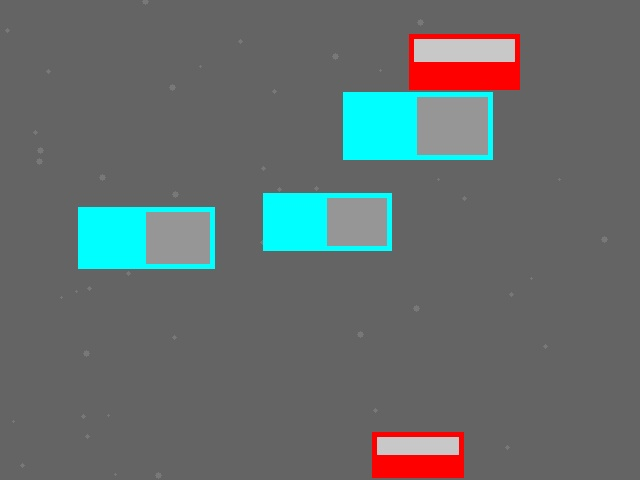car: (409, 34, 519, 89), (372, 432, 463, 477)
truck: (343, 92, 492, 159), (78, 207, 214, 268), (263, 193, 391, 250)
